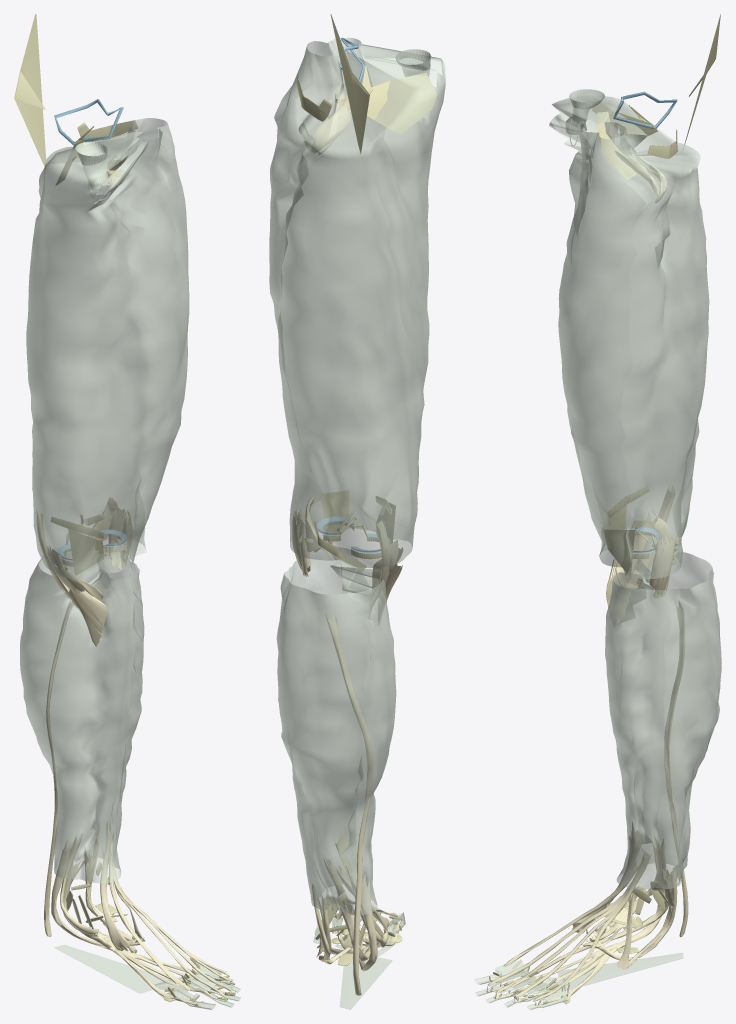
The model's file is connective-reconstructions.glb.
3 renders of one model, left to right at view 1: azimuth 30°, elevation 25°; view 2: azimuth 150°, elevation 25°; view 3: azimuth 270°, elevation 25°, orthographic. The views are drawn at different scales.
Parts seen in each view (by area): view 1: gap-fascia-lata, gap-crural-fascia, gap-sacrotuberous-ligament, gap-flexor-digitorum-longus-tendon, gap-plantar-aponeurosis, gap-extensor-digitorum-longus-tendon, gap-plantaris-tendon, gap-femoral-sheath, gap-sartorius-tendon, gap-medial-patellar-retinaculum, gap-tibialis-anterior-tendon, gap-tibialis-posterior-tendon (+9 smaller); view 2: gap-fascia-lata, gap-crural-fascia, gap-obturator-membrane, gap-plantaris-tendon, gap-sacrotuberous-ligament, gap-plantar-aponeurosis, gap-iliopsoas-tendon, gap-flexor-digitorum-longus-tendon, gap-lateral-patellar-retinaculum, gap-biceps-femoris-tendon, gap-femoral-sheath, gap-semitendinosus-tendon (+10 smaller); view 3: gap-fascia-lata, gap-crural-fascia, gap-extensor-digitorum-longus-tendon, gap-flexor-digitorum-longus-tendon, gap-plantaris-tendon, gap-plantar-aponeurosis, gap-biceps-femoris-tendon, gap-semitendinosus-tendon, gap-femoral-sheath, gap-lateral-patellar-retinaculum, gap-tibialis-posterior-tendon, gap-pubofemoral-ligament (+9 smaller).
Part boxes in pixels (x1,y1,x2,y2): gap-fascia-lata: (26,118,189,579); gap-crural-fascia: (20,545,144,883); gap-sacrotuberous-ligament: (14,14,46,169); gap-flexor-digitorum-longus-tendon: (51,840,235,1001); gap-plantar-aponeurosis: (54,944,191,1002); gap-extensor-digitorum-longus-tendon: (109,832,232,995); gap-plantaris-tendon: (44,601,73,936); gap-femoral-sheath: (75,142,108,190); gap-sartorius-tendon: (67,586,107,646); gap-medial-patellar-retinaculum: (68,529,103,575); gap-tibialis-anterior-tendon: (100,816,132,951); gap-tibialis-posterior-tendon: (60,833,144,952); gap-fascia-lata: (269,37,445,568); gap-crural-fascia: (276,547,396,915); gap-obturator-membrane: (367,73,437,135); gap-plantaris-tendon: (325,613,373,995); gap-sacrotuberous-ligament: (330,14,369,154); gap-plantar-aponeurosis: (322,943,396,1009); gap-iliopsoas-tendon: (304,82,352,155); gap-flexor-digitorum-longus-tendon: (331,874,377,971); gap-lateral-patellar-retinaculum: (320,490,349,544); gap-biceps-femoris-tendon: (292,505,310,576); gap-femoral-sheath: (395,49,431,76); gap-semitendinosus-tendon: (368,520,390,619); gap-fascia-lata: (549,96,709,579); gap-crural-fascia: (605,552,721,889); gap-extensor-digitorum-longus-tendon: (487,854,651,1001); gap-flexor-digitorum-longus-tendon: (485,838,666,1005); gap-plantaris-tendon: (664,599,688,937); gap-plantar-aponeurosis: (527,952,683,1004); gap-biceps-femoris-tendon: (649,534,674,598); gap-semitendinosus-tendon: (621,483,675,618); gap-femoral-sheath: (566,89,604,134); gap-lateral-patellar-retinaculum: (603,529,635,577); gap-tibialis-posterior-tendon: (585,835,662,948); gap-pubofemoral-ligament: (597,111,636,179).
Bounding box in the file's own units: 0.2611 × 1.59 × 0.3766.
